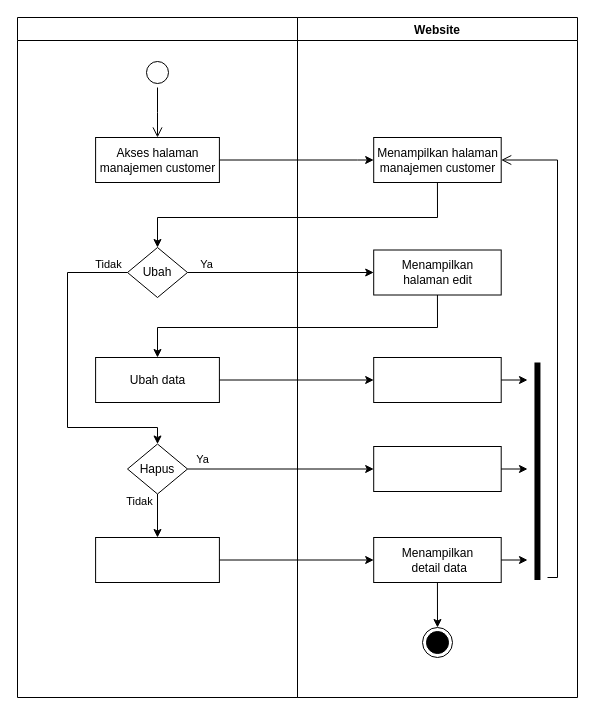
This 595x715 diagram has some shape labels left out. Here are the shapes that lost their labels. From the top down, the box of each, then its label:
(16, 16, 298, 698): Admin
(373, 356, 501, 402): Menyimpan perubahan ke database
(373, 446, 501, 492): Hapus data dari database
(95, 536, 219, 582): Lihat detail data
